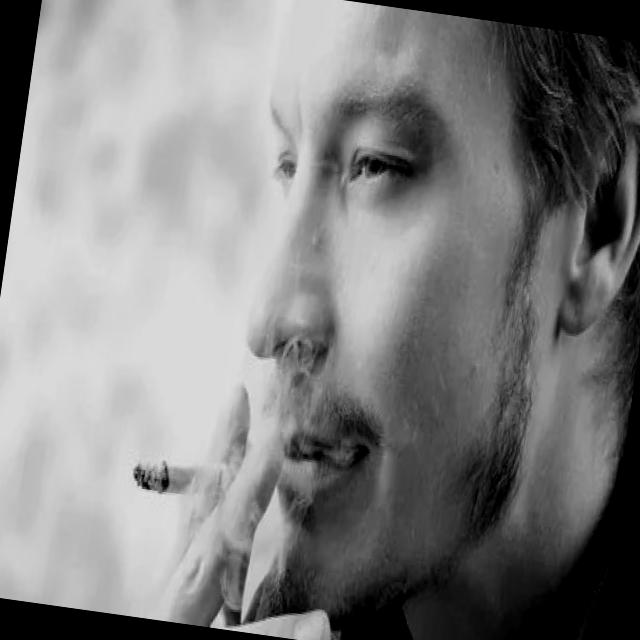smoke: (124, 449, 248, 510)
